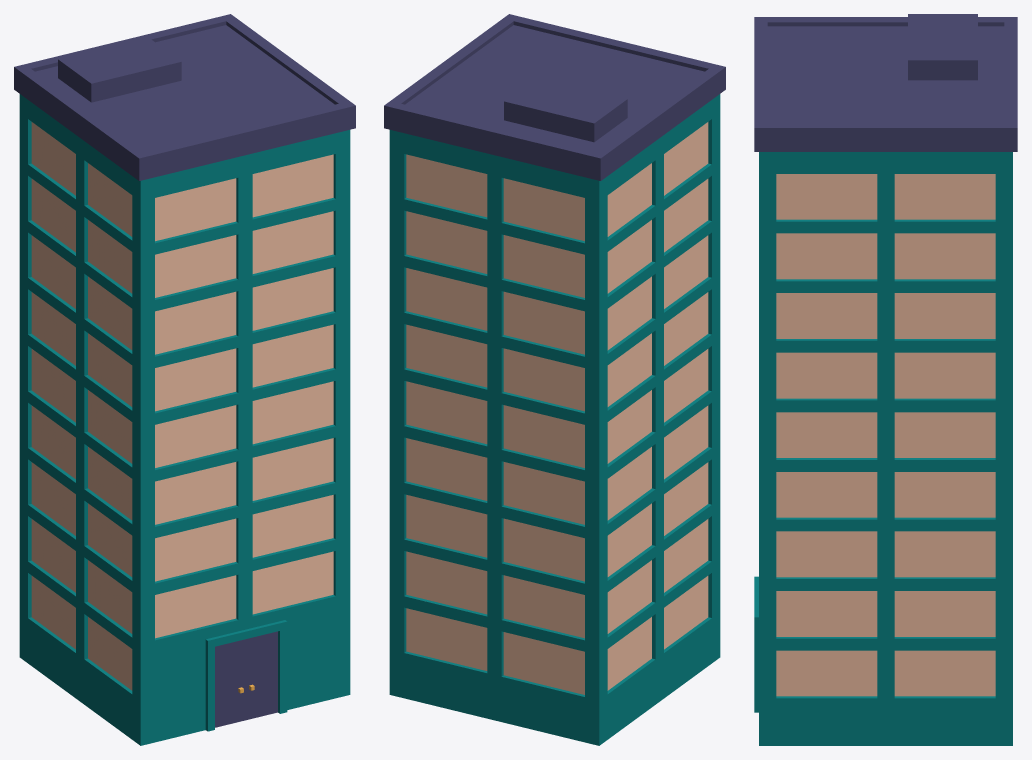
Rendered from building_test1.fbx.
3 views of the same model, side by side, from view 1: azimuth 30°, elevation 25°; view 2: azimuth 150°, elevation 25°; view 3: azimuth 270°, elevation 25° (orthographic). The views are drawn at different scales.
Parts seen in each view (by area): view 1: Object; view 2: Object; view 3: Object.
Boxes of the visible parts, left/top/right/bottom form: Object: left=14, top=14, right=355, bottom=745; Object: left=384, top=14, right=725, bottom=745; Object: left=754, top=14, right=1017, bottom=745.
Size of the model in its own units: 60 by 160 by 60.
